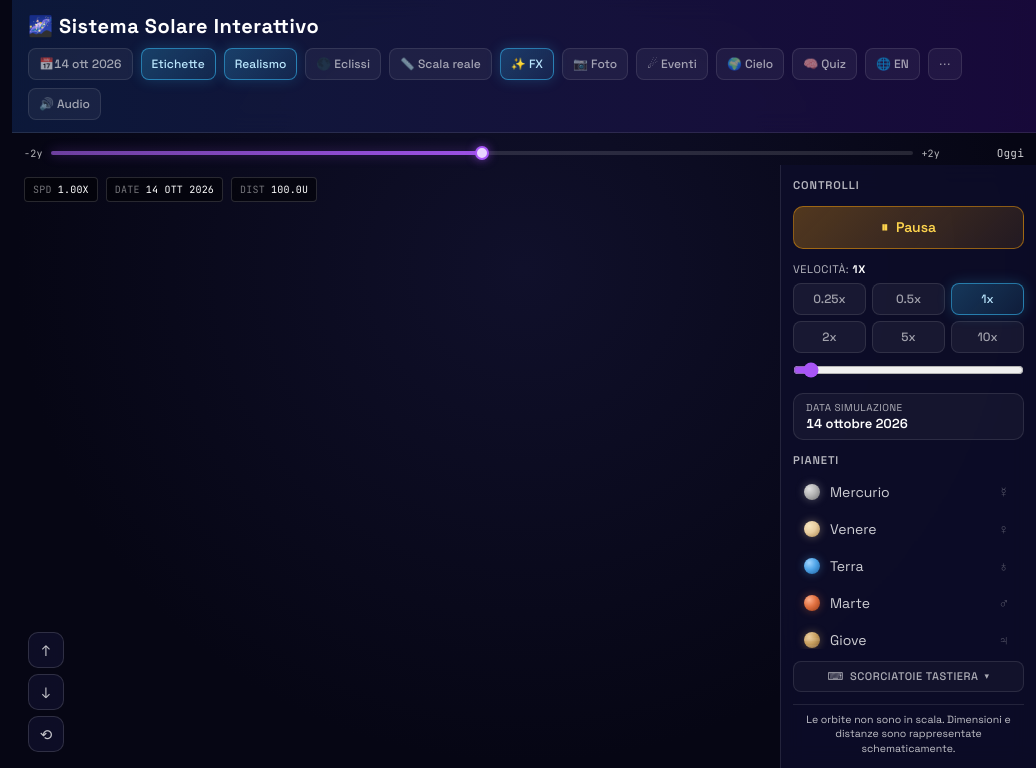
Test: Scorciatoia Spazio ≡ pulsante Play/Pausa › lo stato del pulsante è coerente con aria-pressed dopo toggle misti
This screenshot has width=1036, height=768.
Press Space
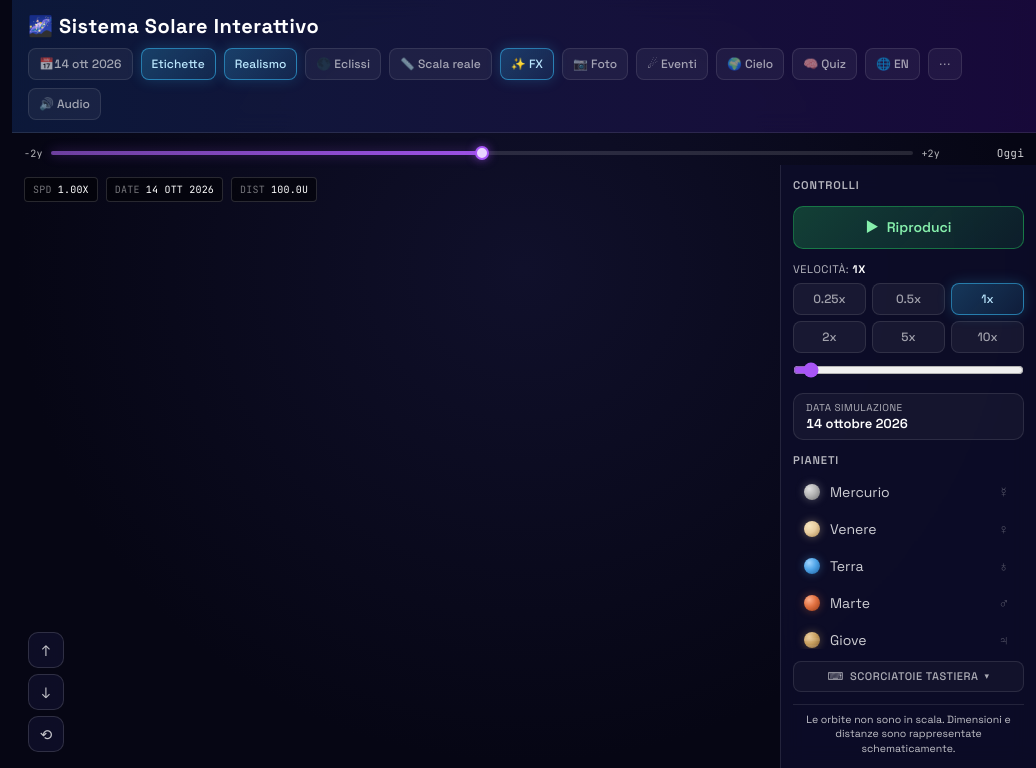
Press Space
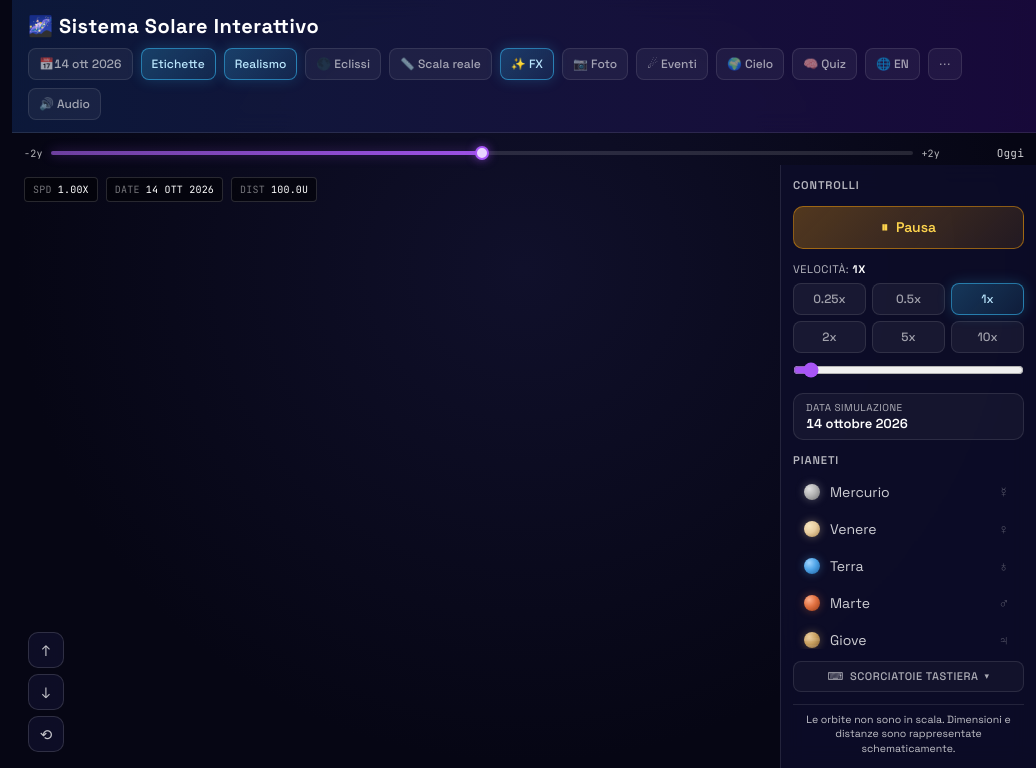
Click the button "⏸ Pausa": (908, 227) [793, 206, 1024, 249]
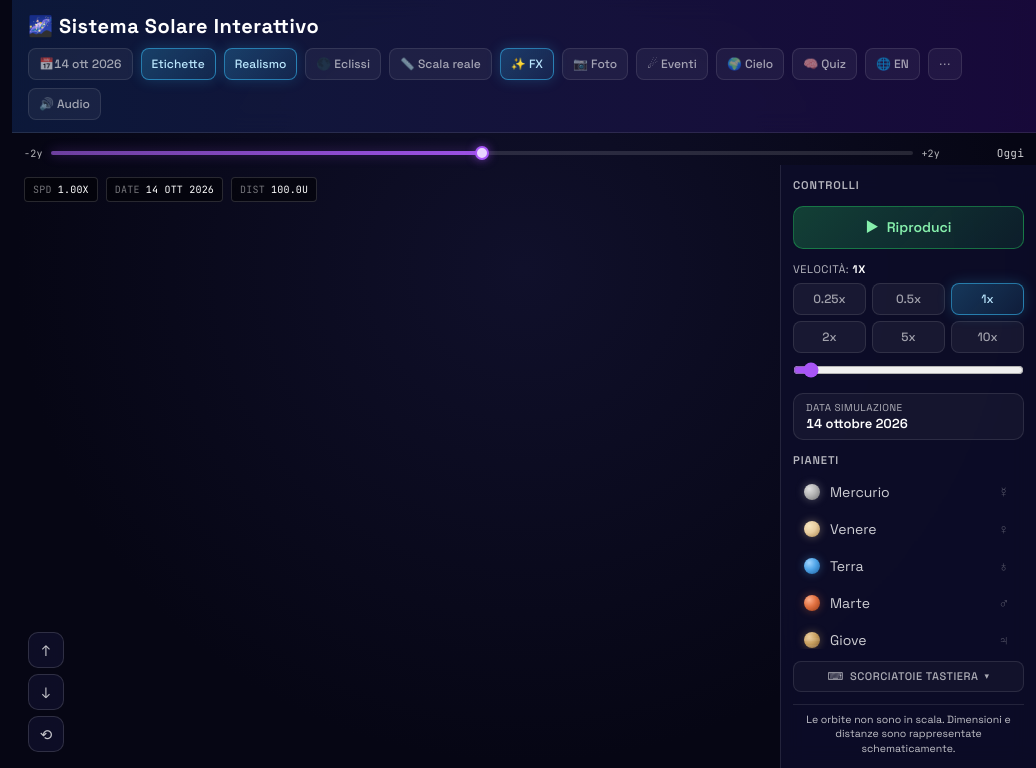
Expected: the button "▶ Riproduci" is shown, [793, 206, 1024, 249]
